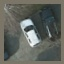car: (20, 18, 40, 48), (41, 12, 60, 42)
